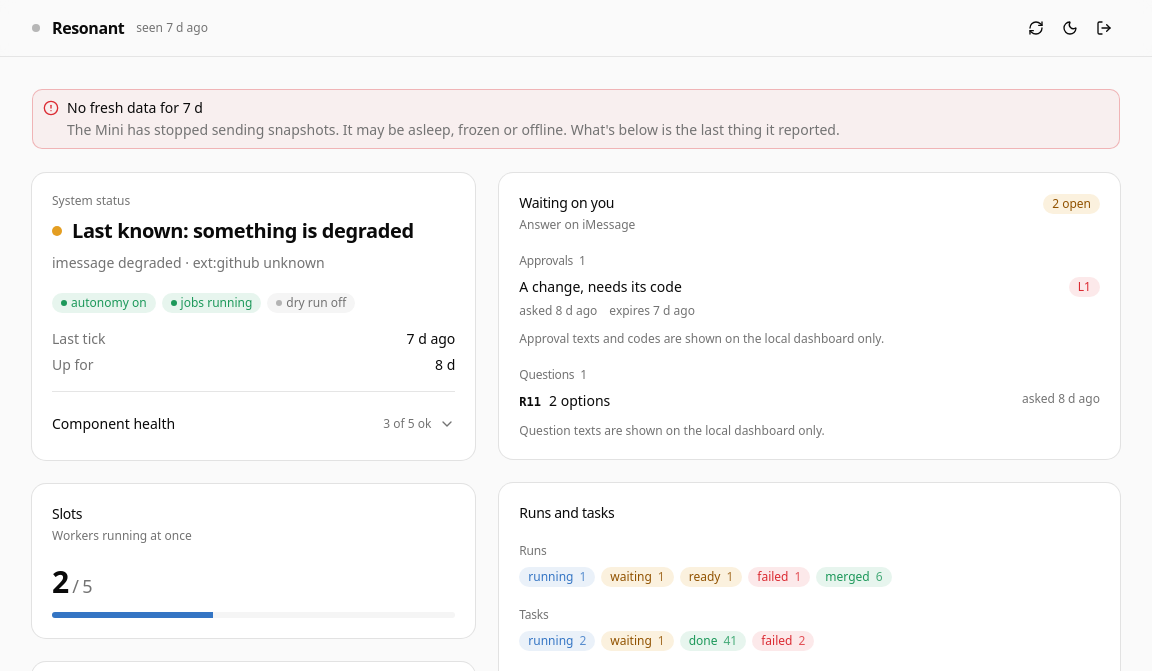
Test: SupabaseGate › signs out from the dashboard
This screenshot has width=1152, height=671.
Click the button named "Sign out" at x=1104, y=28, box [1088,12,1120,44]
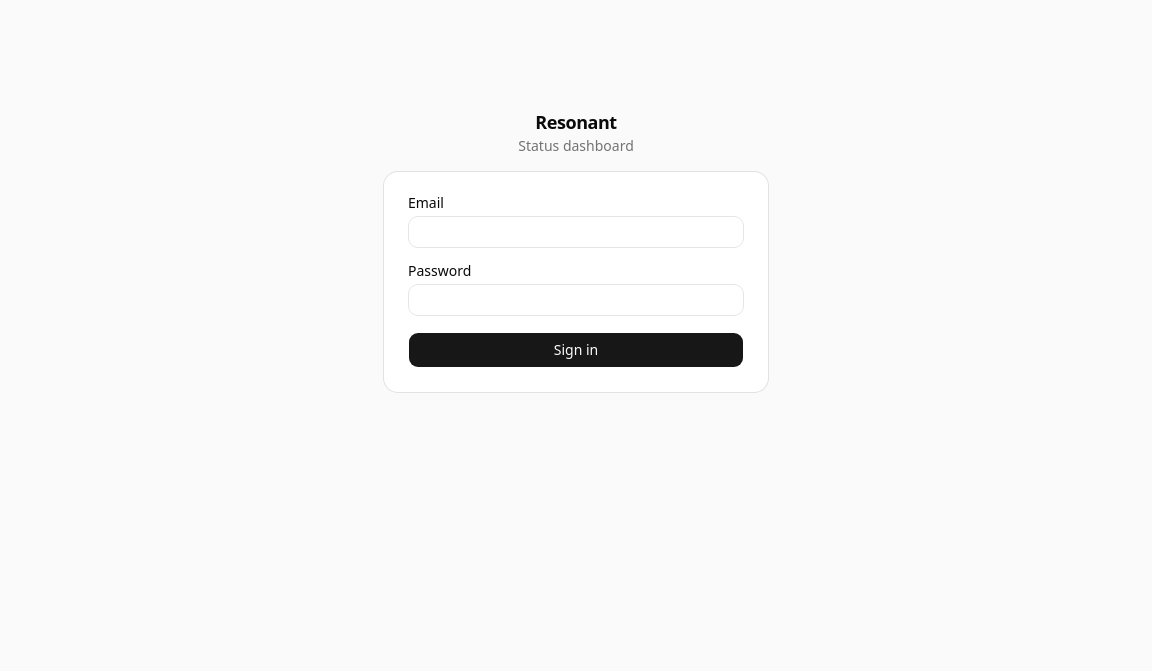
Now the field labelled "Email" is shown, box [408,216,744,248]
